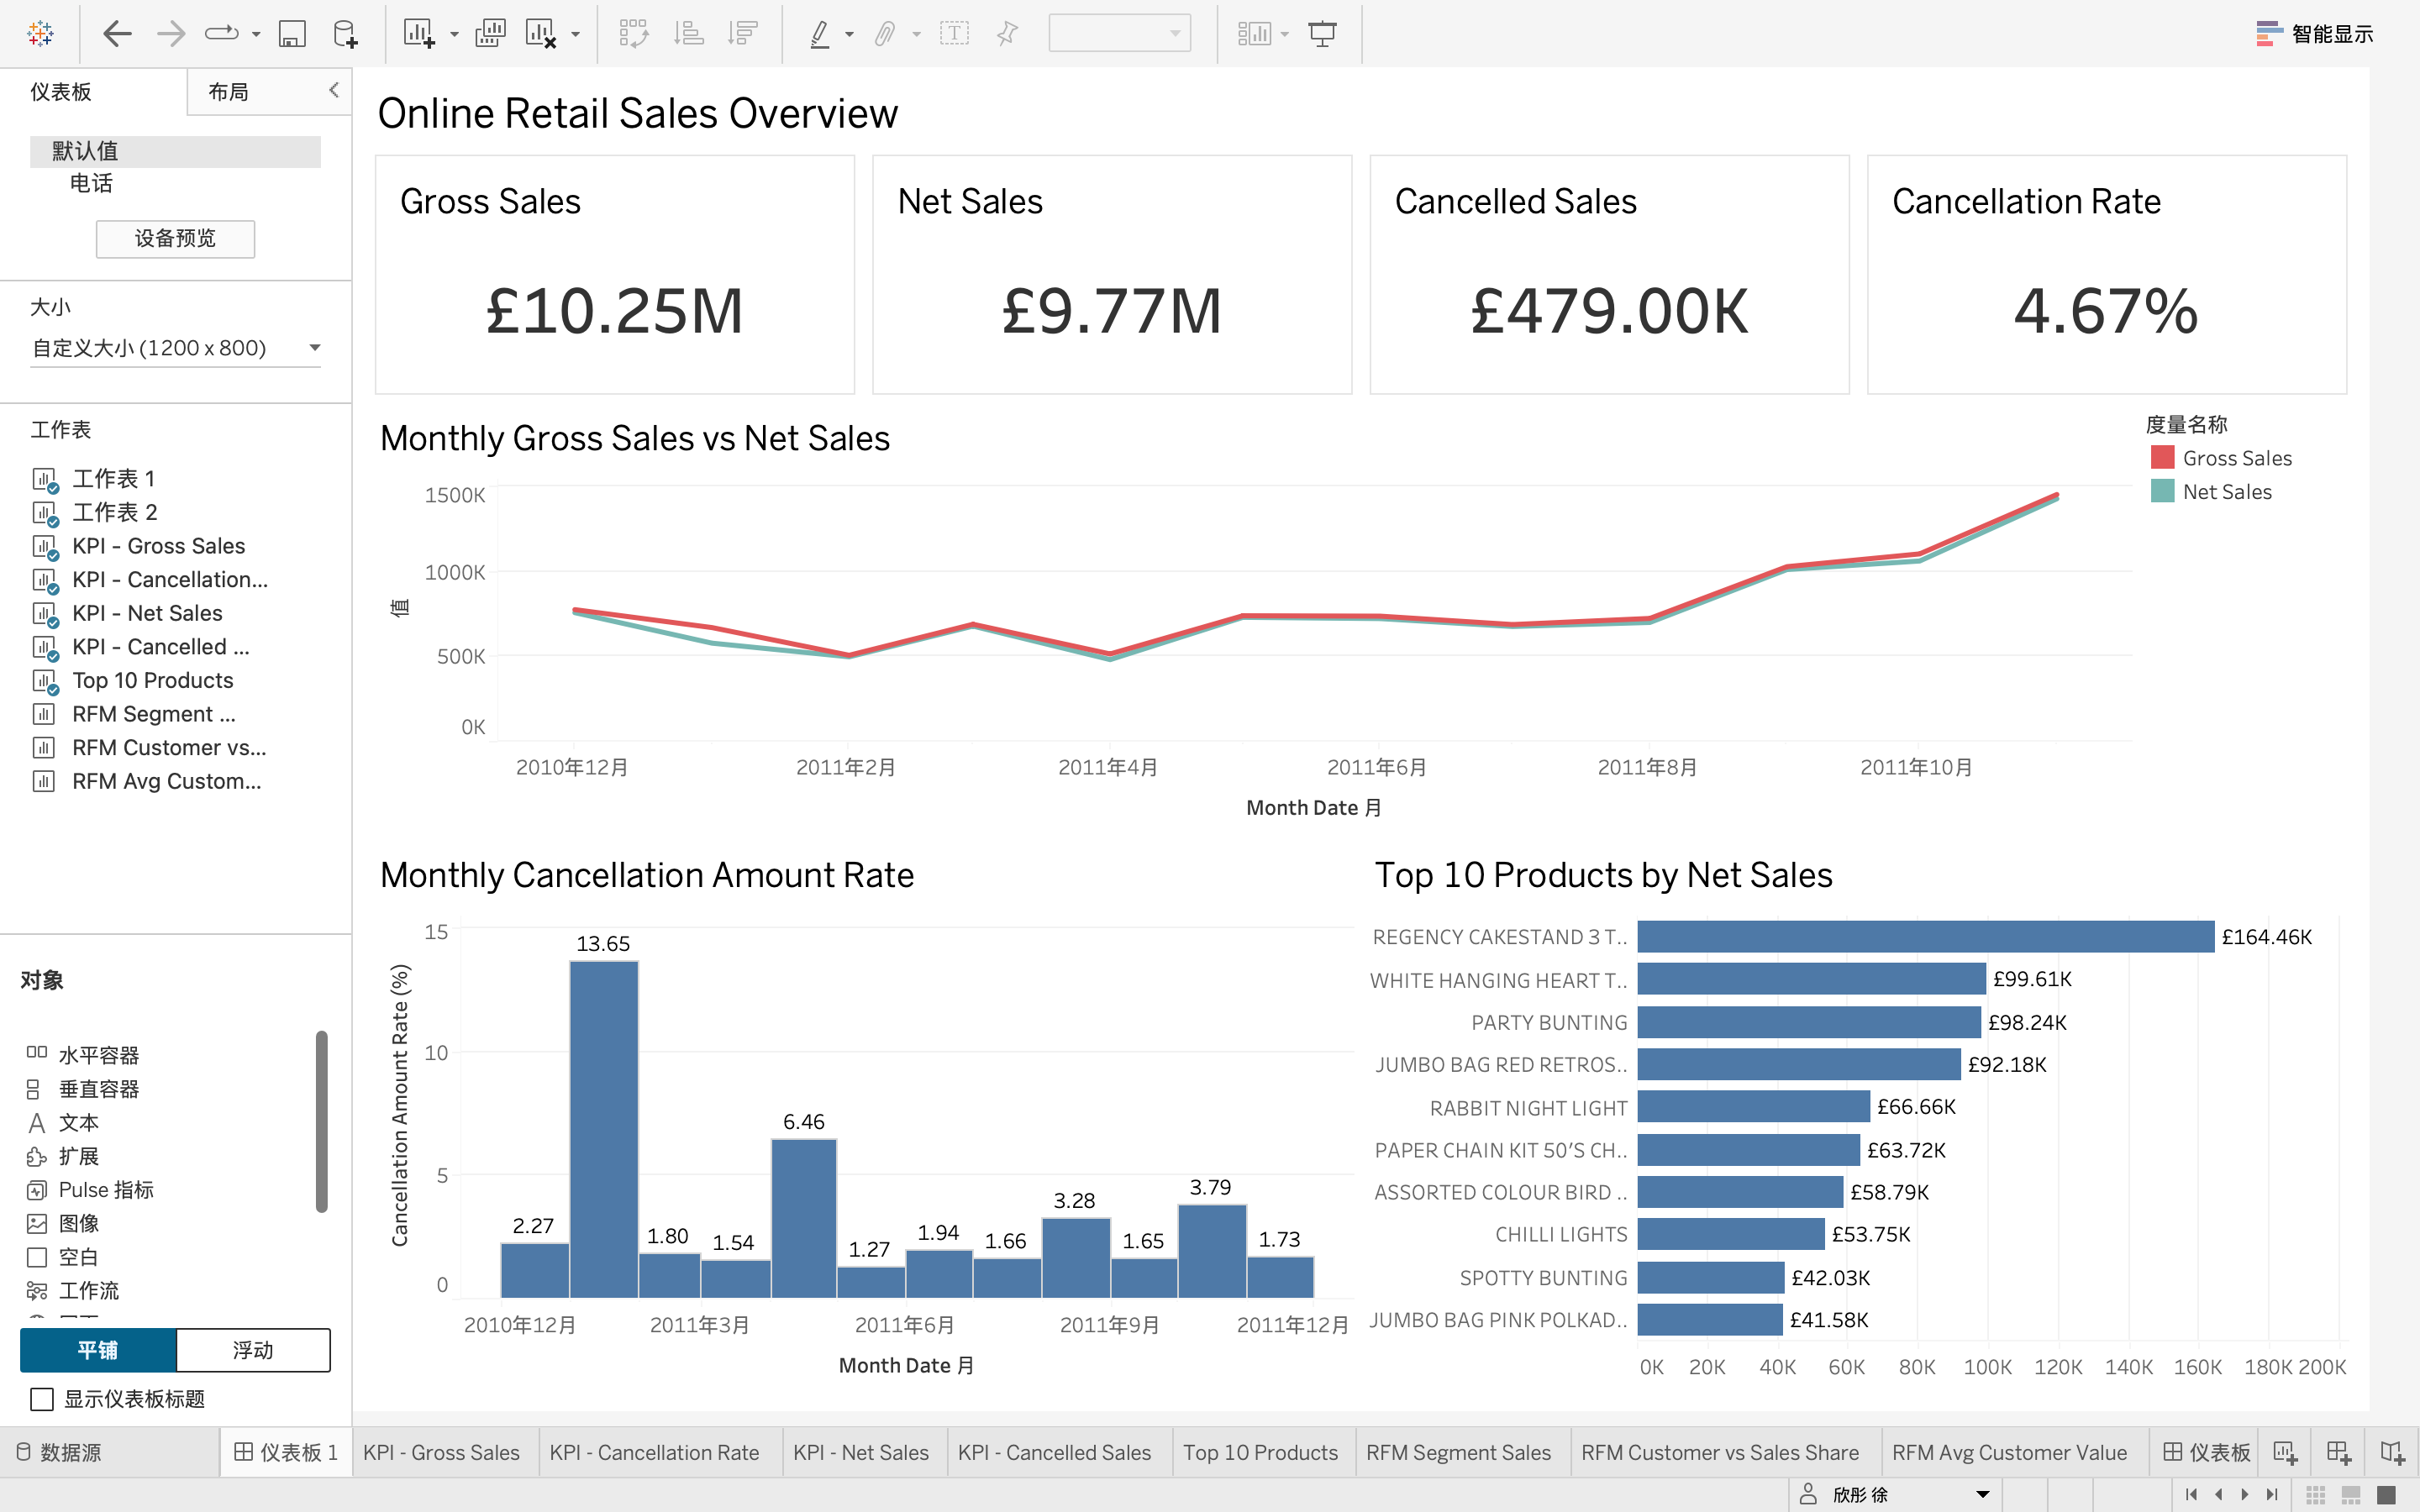

The dashboard page shown, as its layout file describes it:
{"tool":"tableau","page":{"name":"仪表板 1","canvas":[1200,800],"ordinal":0},"visuals":[{"type":"title","box":[8,8,1184,39]},{"type":"worksheet","title":"KPI - Gross Sales","mark":"Automatic","box":[8,47,296,153]},{"type":"worksheet","title":"KPI - Net Sales","mark":"Automatic","box":[304,47,296,153]},{"type":"worksheet","title":"KPI - Cancelled Sales","mark":"Automatic","box":[600,47,296,153]},{"type":"worksheet","title":"KPI - Cancellation Rate","mark":"Automatic","box":[896,47,296,153]},{"type":"worksheet","title":"工作表 1","mark":"Line","cols":["Calculation_0651633535873024"],"box":[8,200,1055,260]},{"type":"legend","title":"工作表 1","param":"[federated.06rdlyv0y1uopt162smoi05meqbd].[:Measure Names]","box":[1063,200,129,260]},{"type":"worksheet","title":"工作表 2","mark":"Bar","rows":["cancel_rate_pct"],"cols":["Calculation_0651633535873024"],"box":[8,460,592,332]},{"type":"worksheet","title":"Top 10 Products","mark":"Bar","rows":["Description"],"cols":["net_sales"],"box":[600,460,592,332]}]}

Visuals, with their boxes on the page's 1200x800 design canvas (x1, y1, x2, y2). These are canvas units, not pixel positions in the 2420x1512 screenshot, which may show the page scaled, cropped or inside an application window:
title: (8, 8, 1192, 47)
"KPI - Gross Sales" worksheet: (8, 47, 304, 200)
"KPI - Net Sales" worksheet: (304, 47, 600, 200)
"KPI - Cancelled Sales" worksheet: (600, 47, 896, 200)
"KPI - Cancellation Rate" worksheet: (896, 47, 1192, 200)
"工作表 1" worksheet (Line marks): (8, 200, 1063, 460)
"工作表 1" legend: (1063, 200, 1192, 460)
"工作表 2" worksheet (Bar marks): (8, 460, 600, 792)
"Top 10 Products" worksheet (Bar marks): (600, 460, 1192, 792)
